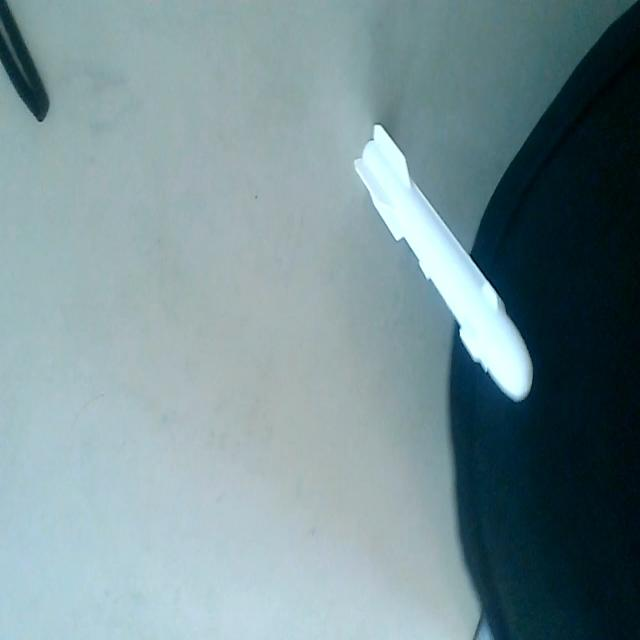Rocket: (351, 116, 535, 407)
